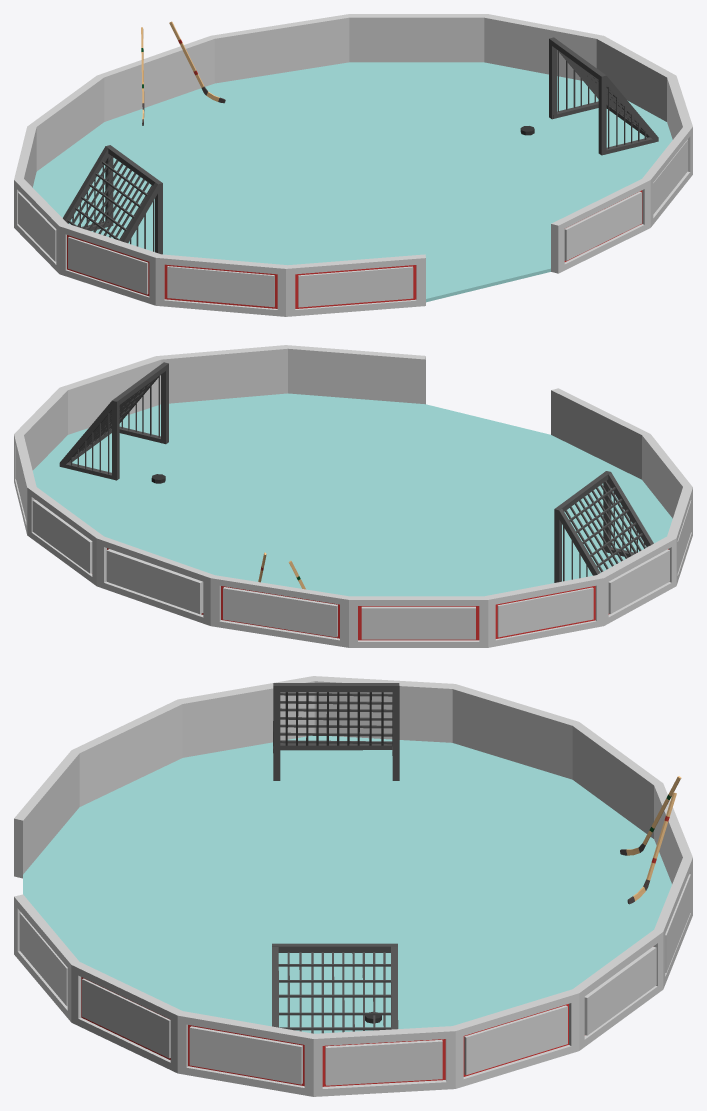
File: FH_IceHockey.fbx
The picture shows the model from 3 angles, top to bottom: view 1: azimuth 30°, elevation 25°; view 2: azimuth 150°, elevation 25°; view 3: azimuth 270°, elevation 25°; orthographic projection. The views are drawn at different scales.
Visible parts, largest first — view 1: Circle.017; view 2: Circle.017; view 3: Circle.017.
Boxes of the visible parts, x1,y1,x2,y2 form: Circle.017: (14, 14, 692, 316); Circle.017: (14, 345, 692, 647); Circle.017: (14, 676, 692, 1096).
Size of the model in its own units: 9291 by 1181 by 7343.
